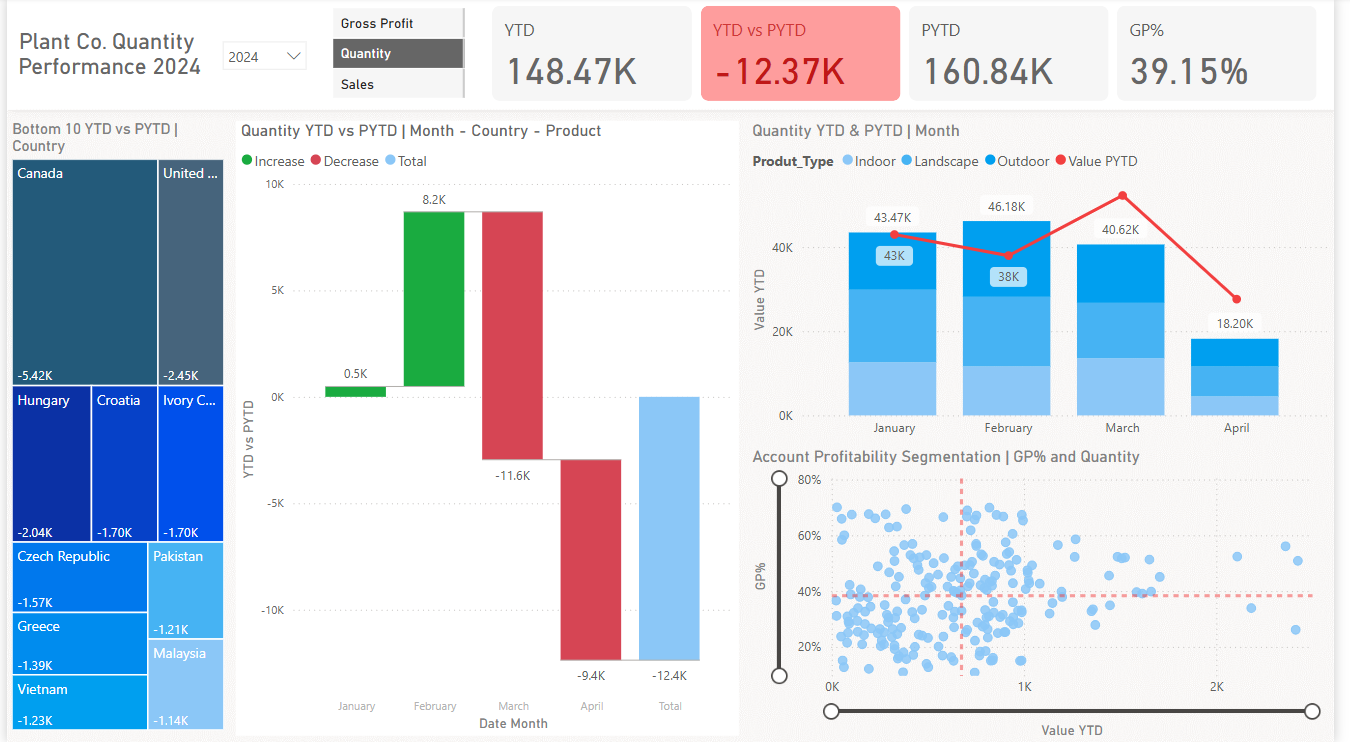

This screenshot's page, from the dashboard's own definition file:
{"tool":"powerbi","page":{"name":"Performance Report","canvas":[1280,720],"ordinal":0},"visuals":[{"type":"cardVisual","fields":{"Data":["_Measures.S_YTD","_Measures.YTD vs PYTD","_Measures.S_PYTD","_Measures.GP%"]},"box":[463,4.2,806.2,102.1],"z":0},{"type":"advancedSlicerVisual","fields":{"Values":["Slc_Values.Values"]},"box":[309.8,5.9,137.3,98],"z":1000},{"type":"slicer","fields":{"Values":["Dim_Date.Date.Variation.Date Hierarchy.Year"]},"box":[198.4,32.7,101.3,50.2],"z":2000},{"type":"treemap","title":"Bottom 10 YTD vs PYTD | Country","fields":{"Values":["_Measures.YTD vs PYTD"],"Group":["Dim_Account.country"]},"box":[0,118.7,214.6,594.4],"z":3000},{"type":"waterfallChart","fields":{"Y":["_Measures.YTD vs PYTD"],"Category":["Dim_Date.Date.Variation.Date Hierarchy.Month","Dim_Account.country","Dim_Product.Produt_Type","Dim_Product.Product_Name"]},"box":[220.3,119.6,485.2,593.5],"z":4000},{"type":"lineStackedColumnComboChart","fields":{"Y":["_Measures.S_YTD"],"Y2":["_Measures.S_PYTD"],"Category":["Dim_Date.Date.Variation.Date Hierarchy.Quarter","Dim_Date.Date.Variation.Date Hierarchy.Month"],"Series":["Dim_Product.Produt_Type"]},"box":[714.1,119.6,565.9,314.3],"z":5000},{"type":"scatterChart","fields":{"Y":["_Measures.GP%"],"X":["_Measures.S_YTD"],"Category":["Dim_Account.Account"]},"box":[714.1,433.9,565.9,285.8],"z":6000},{"type":"card","fields":{"Values":["_Measures._Report title"]},"box":[0,20.9,198.5,68.4],"z":7000}]}

Visuals, with their boxes in screenshot pixels (x1, y1, x2, y2), scaled from the page's 1280x720 canvas onto the 1350x742 screenshot:
cardVisual - _Measures.S_YTD x _Measures.YTD vs PYTD: [x1=488, y1=4, x2=1339, y2=110]
advancedSlicerVisual - Slc_Values.Values: [x1=327, y1=6, x2=472, y2=107]
slicer - Dim_Date.Date.Variation.Date Hierarchy.Year: [x1=209, y1=34, x2=316, y2=85]
"Bottom 10 YTD vs PYTD | Country" treemap: [x1=0, y1=122, x2=226, y2=735]
waterfallChart - _Measures.YTD vs PYTD x Dim_Date.Date.Variation.Date Hierarchy.Month: [x1=232, y1=123, x2=744, y2=735]
lineStackedColumnComboChart - _Measures.S_YTD x _Measures.S_PYTD: [x1=753, y1=123, x2=1349, y2=447]
scatterChart - _Measures.GP% x _Measures.S_YTD: [x1=753, y1=447, x2=1349, y2=741]
card - _Measures._Report title: [x1=0, y1=22, x2=209, y2=92]
